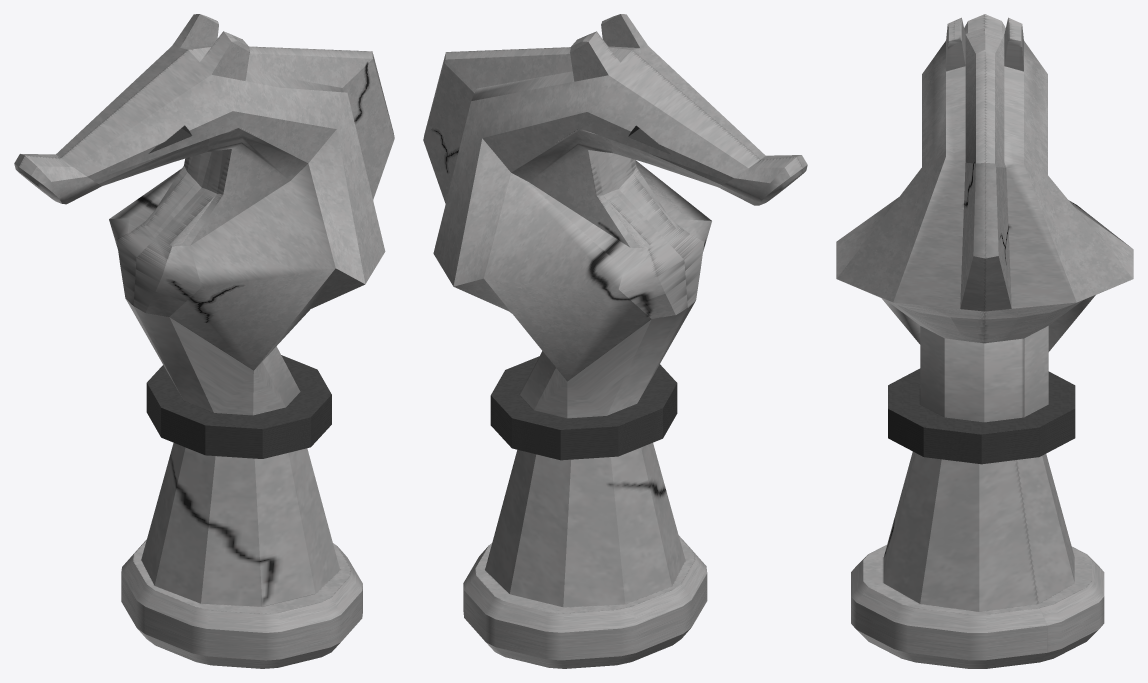
Rendered from Knight Black Model.fbx.
The picture shows the model from 3 angles, left to right: view 1: azimuth 30°, elevation 25°; view 2: azimuth 150°, elevation 25°; view 3: azimuth 270°, elevation 25°; orthographic projection. The views are drawn at different scales.
Visible parts, largest first — view 1: Caballo; view 2: Caballo; view 3: Caballo.
Boxes of the visible parts, box(x1,y1,x2,y2) form: Caballo: box(14, 14, 394, 668); Caballo: box(423, 14, 807, 668); Caballo: box(836, 14, 1133, 668).
Size of the model in its own units: 5.43 by 8.32 by 3.77.
